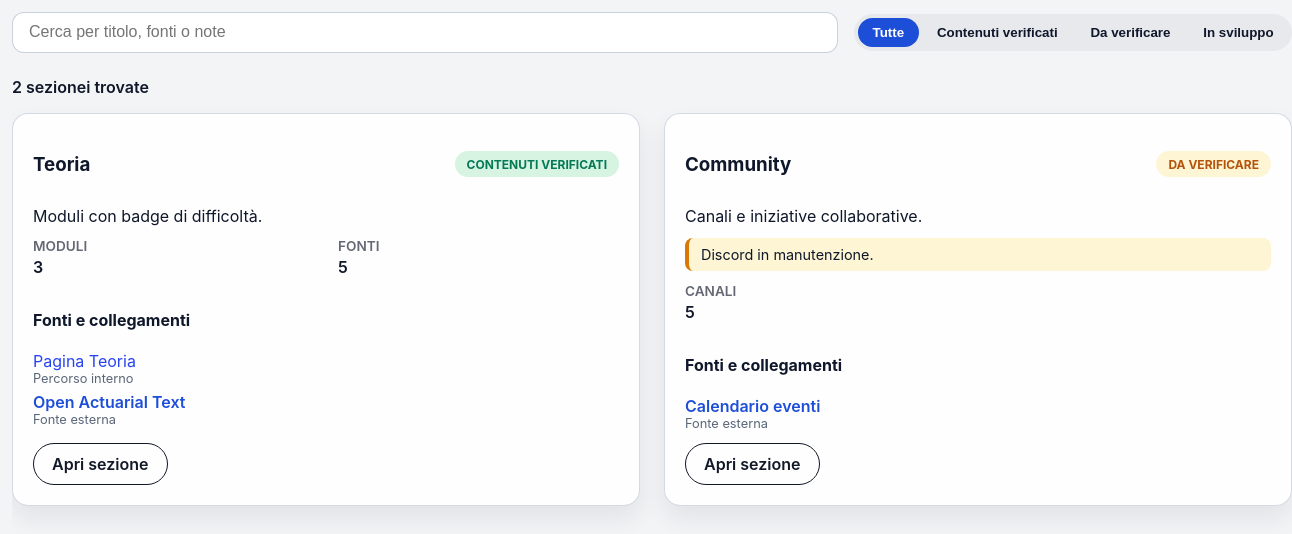
Test: SectionAuditBoard › filters sections by status
Click the radio button labelled "Da verificare": (1130, 32) x1=1076 y1=18 x2=1185 y2=47
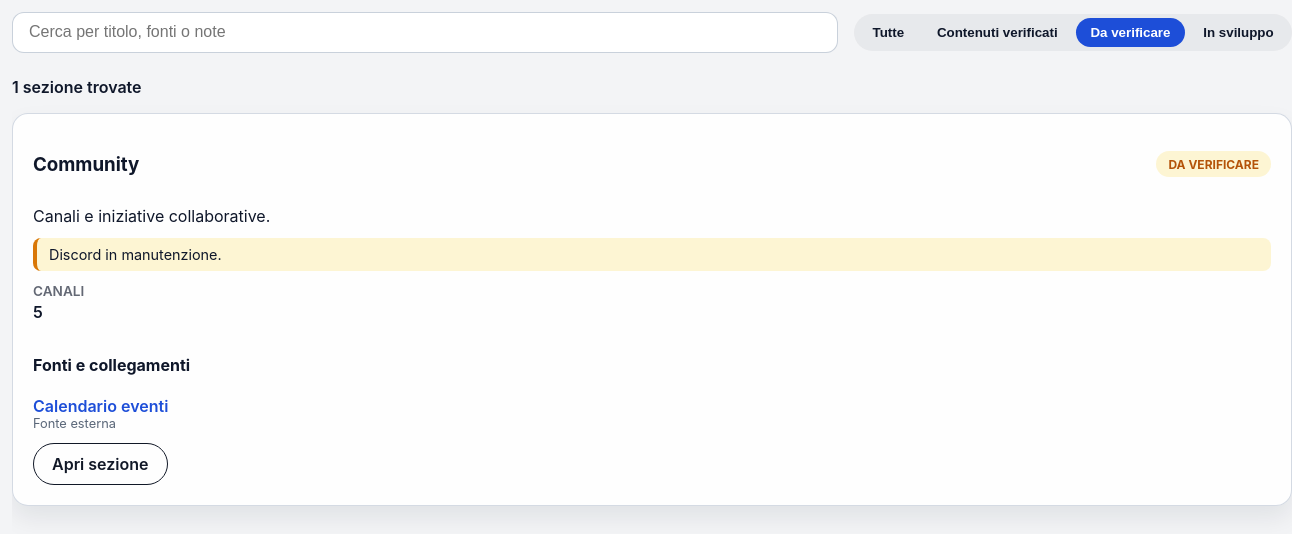
Expected: the heading "Community" is shown, x1=33 y1=152 x2=139 y2=176
Result: the heading "Teoria" is gone
